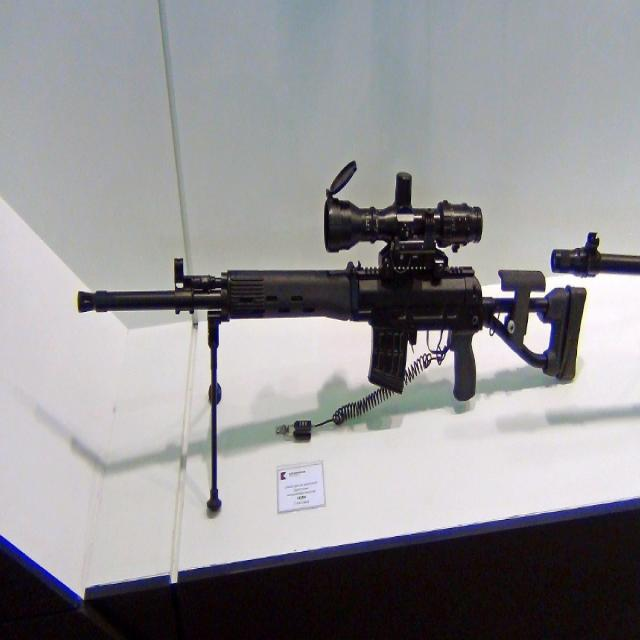Rifle: (77, 163, 588, 402)
